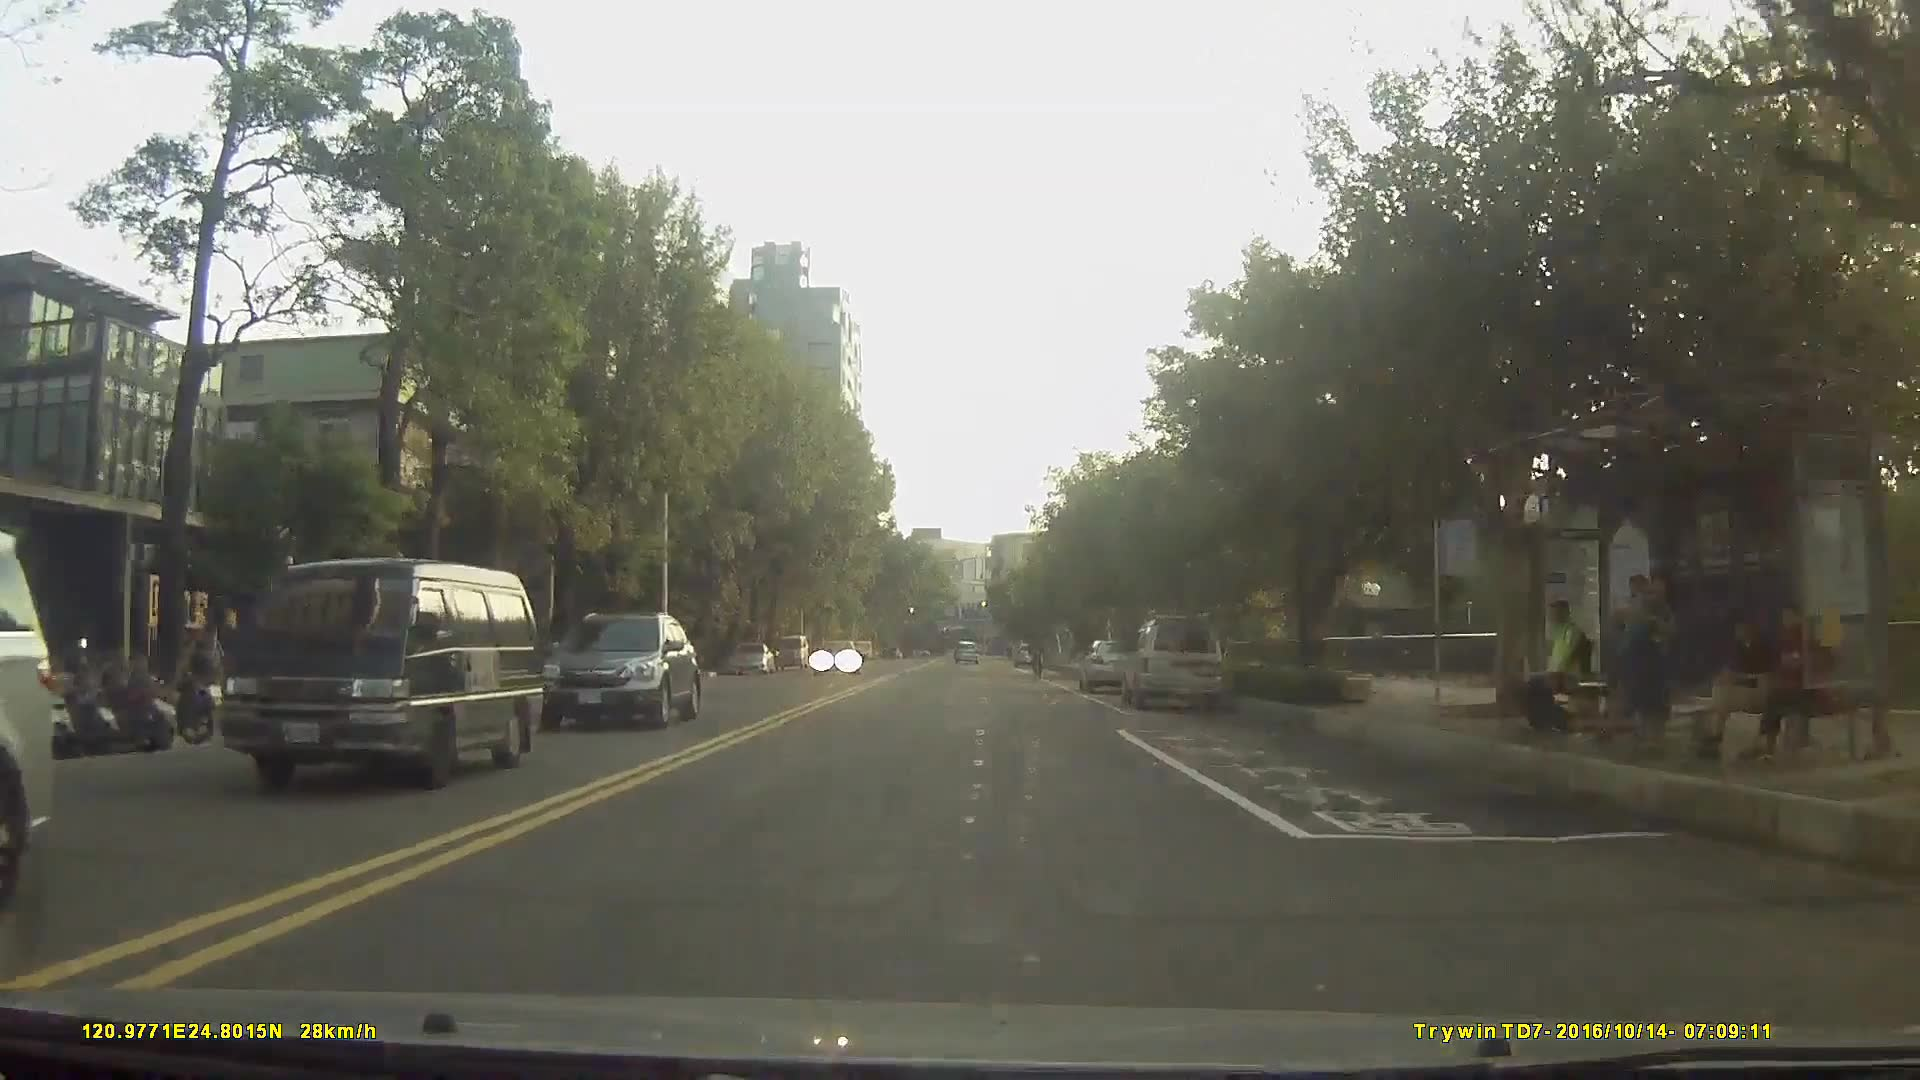pedestrian: (1755, 597, 1856, 770), (1689, 607, 1788, 771), (1605, 570, 1675, 755), (1524, 590, 1601, 735)
rider: (1028, 633, 1048, 684)
vehicle: (211, 555, 541, 794), (536, 609, 701, 726), (1120, 617, 1224, 711), (1078, 637, 1141, 692), (811, 636, 858, 675), (726, 639, 773, 675), (772, 630, 809, 671), (952, 639, 979, 667), (1014, 642, 1040, 667)
